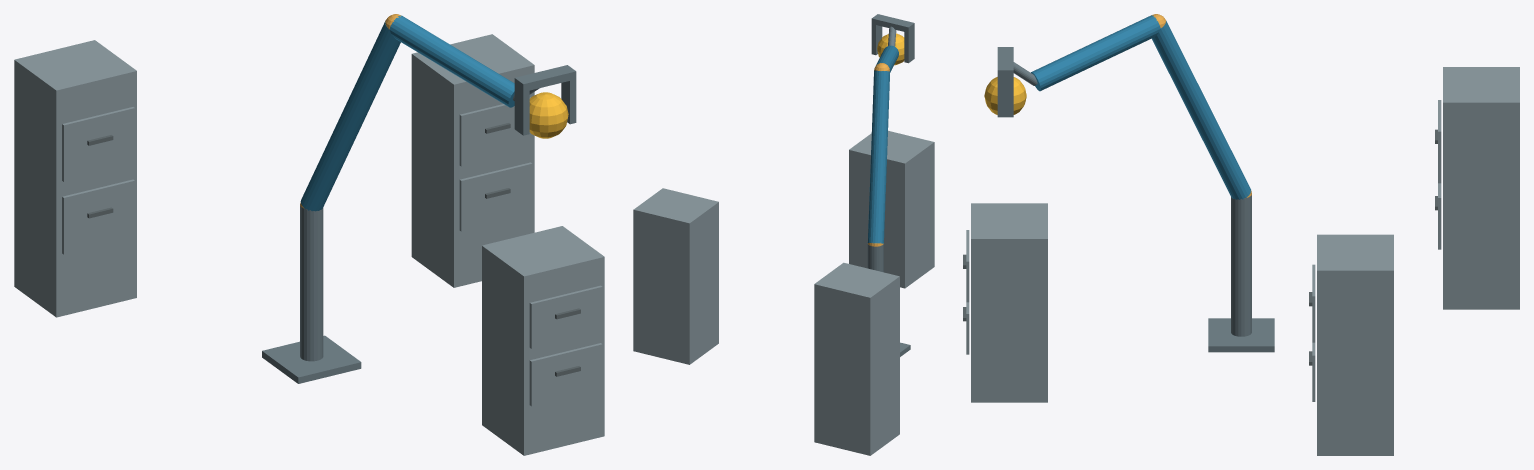
The picture shows the model from 3 angles, left to right: view 1: azimuth 30°, elevation 25°; view 2: azimuth 150°, elevation 25°; view 3: azimuth 270°, elevation 25°; orthographic projection. The views are drawn at different scales.
Visible parts, largest first — view 1: cabinet_3 body, cabinet_1 body, cabinet_2 body, moving link 1, cabinet_3 drawer front, cabinet_3 drawer front.001, cabinet_2 drawer front, fixed post, moving link 2, cabinet_1 drawer front.001, cabinet_1 drawer front, cabinet_2 drawer front.001 (+4 smaller); view 2: cabinet_3 body, cabinet_2 body, cabinet_1 body, moving link 1, gripper bridge, fixed post, ball ball_1, gripper finger -1, moving link 2; view 3: cabinet_3 body, cabinet_2 body, cabinet_1 body, moving link 1, moving link 2, fixed post, pedestal, ball ball_1, gripper finger 1.
Part boxes in pixels (left/top/right/bottom): cabinet_3 body: left=14, top=40, right=136, bottom=317; cabinet_1 body: left=482, top=226, right=604, bottom=455; cabinet_2 body: left=411, top=34, right=534, bottom=287; moving link 1: left=300, top=21, right=400, bottom=211; cabinet_3 drawer front: left=62, top=179, right=134, bottom=254; cabinet_3 drawer front.001: left=62, top=107, right=134, bottom=181; cabinet_2 drawer front: left=459, top=162, right=532, bottom=231; fixed post: left=300, top=204, right=323, bottom=361; moving link 2: left=389, top=15, right=514, bottom=107; cabinet_1 drawer front.001: left=529, top=285, right=602, bottom=348; cabinet_1 drawer front: left=529, top=343, right=602, bottom=406; cabinet_2 drawer front.001: left=459, top=97, right=532, bottom=166; cabinet_3 body: left=814, top=262, right=899, bottom=455; cabinet_2 body: left=633, top=188, right=718, bottom=364; cabinet_1 body: left=849, top=130, right=934, bottom=288; moving link 1: left=867, top=70, right=890, bottom=243; gripper bridge: left=871, top=14, right=914, bottom=32; fixed post: left=867, top=243, right=883, bottom=272; ball ball_1: left=877, top=33, right=904, bottom=65; gripper finger -1: left=904, top=29, right=914, bottom=63; moving link 2: left=875, top=45, right=898, bottom=72; cabinet_3 body: left=1443, top=67, right=1519, bottom=309; cabinet_2 body: left=1317, top=234, right=1393, bottom=455; cabinet_1 body: left=971, top=203, right=1047, bottom=402; moving link 1: left=1152, top=21, right=1251, bottom=199; moving link 2: left=1031, top=15, right=1160, bottom=91; fixed post: left=1231, top=195, right=1251, bottom=336; pedestal: left=1208, top=318, right=1274, bottom=352; ball ball_1: left=984, top=77, right=1026, bottom=114; gripper finger 1: left=997, top=77, right=1013, bottom=117.
Size of the model in its own units: 1.62 by 1.41 by 2.1.
